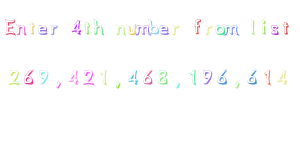,: (231, 79, 245, 92), (52, 78, 64, 91), (171, 80, 185, 91), (113, 80, 125, 91)
1: (97, 69, 114, 90), (261, 68, 275, 89), (186, 66, 199, 88)
2: (82, 67, 96, 88), (7, 68, 22, 87)
4: (276, 68, 290, 90), (68, 17, 83, 36), (126, 68, 140, 87), (67, 68, 81, 86)
6: (216, 66, 231, 88), (245, 67, 259, 88), (23, 67, 37, 87), (142, 68, 153, 87)
8: (155, 68, 172, 89)
9: (36, 66, 52, 88), (200, 68, 216, 87)
E: (3, 16, 17, 39)
b: (148, 17, 160, 38)
e: (159, 19, 171, 40), (38, 22, 49, 39)
f: (190, 17, 204, 38)
h: (93, 18, 109, 38)
i: (261, 18, 268, 39)
l: (247, 16, 258, 39)
m: (223, 21, 241, 39), (136, 19, 150, 37)
n: (113, 19, 126, 38), (16, 21, 27, 37)
o: (214, 22, 226, 38)
r: (170, 19, 185, 38), (49, 18, 60, 37), (204, 21, 213, 38)
s: (270, 21, 281, 38)
t: (281, 19, 294, 37), (26, 19, 38, 38), (83, 20, 92, 37)
u: (126, 19, 137, 38)
